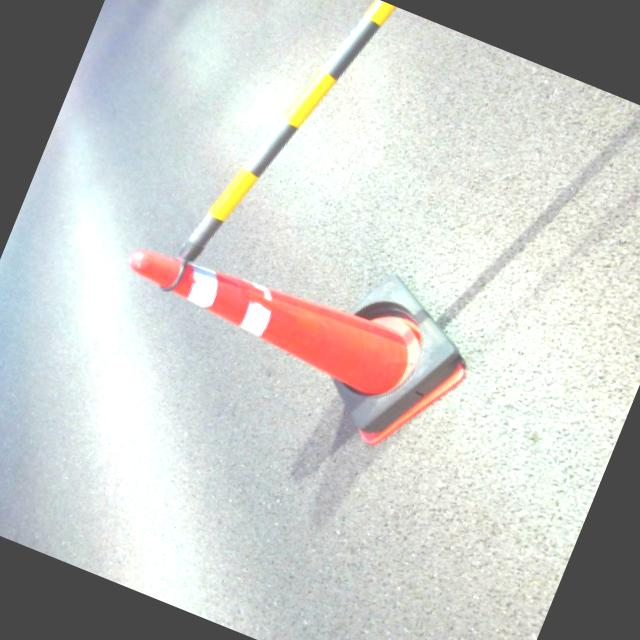cone: (59, 171, 488, 475)
